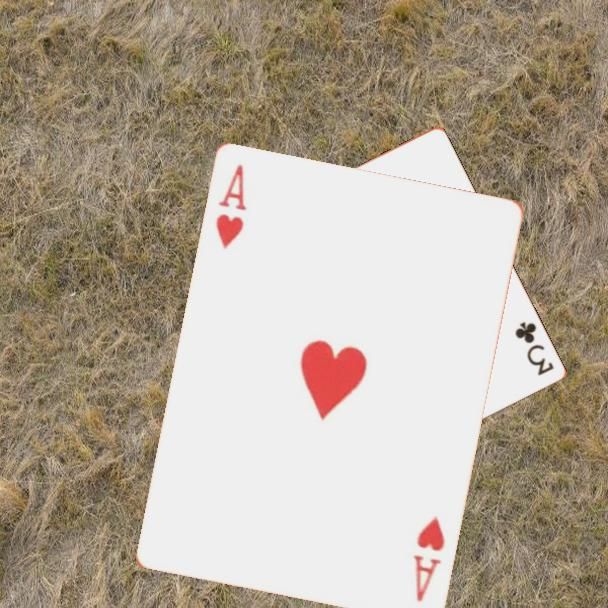c03: (512, 318, 557, 379)
h01: (410, 514, 448, 606), (212, 161, 250, 253)
